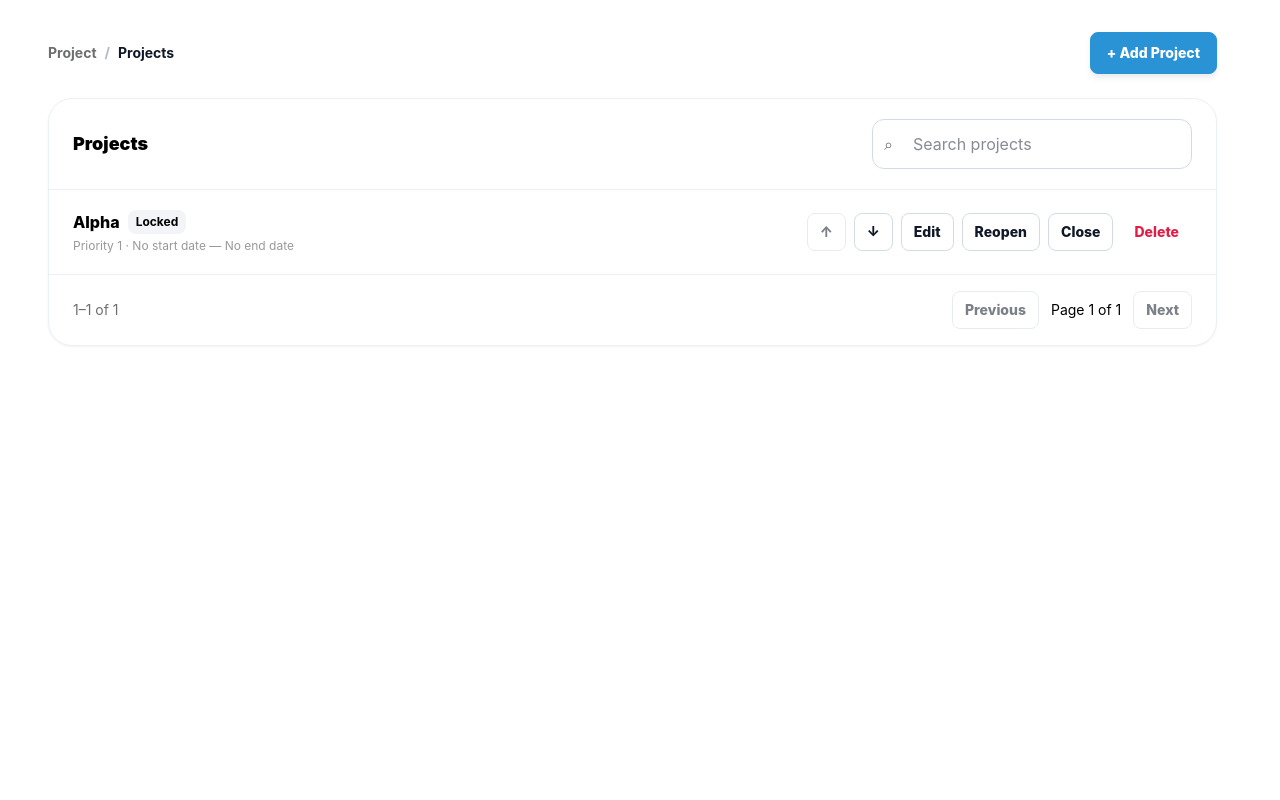
Projects page › labels Bulk Reopen open projects as timeline impacts only_US62_D08_AC25
This screenshot has width=1280, height=800.
Expected: the heading "Alpha" is shown, [73, 210, 120, 234]
Step 1. Click the button "Reopen" → (1001, 232), box [962, 213, 1040, 251]
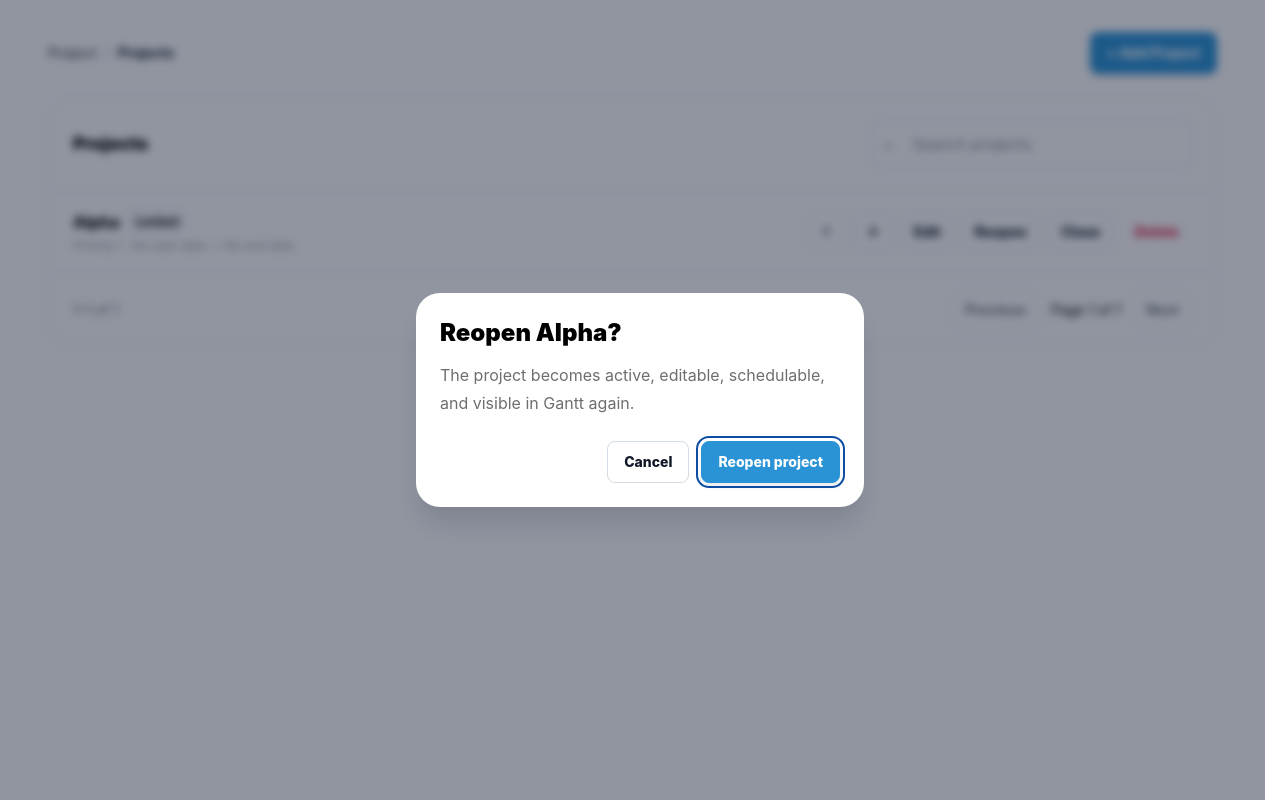
Step 2. Click the button "Reopen project" → (771, 462), box [701, 441, 840, 483]
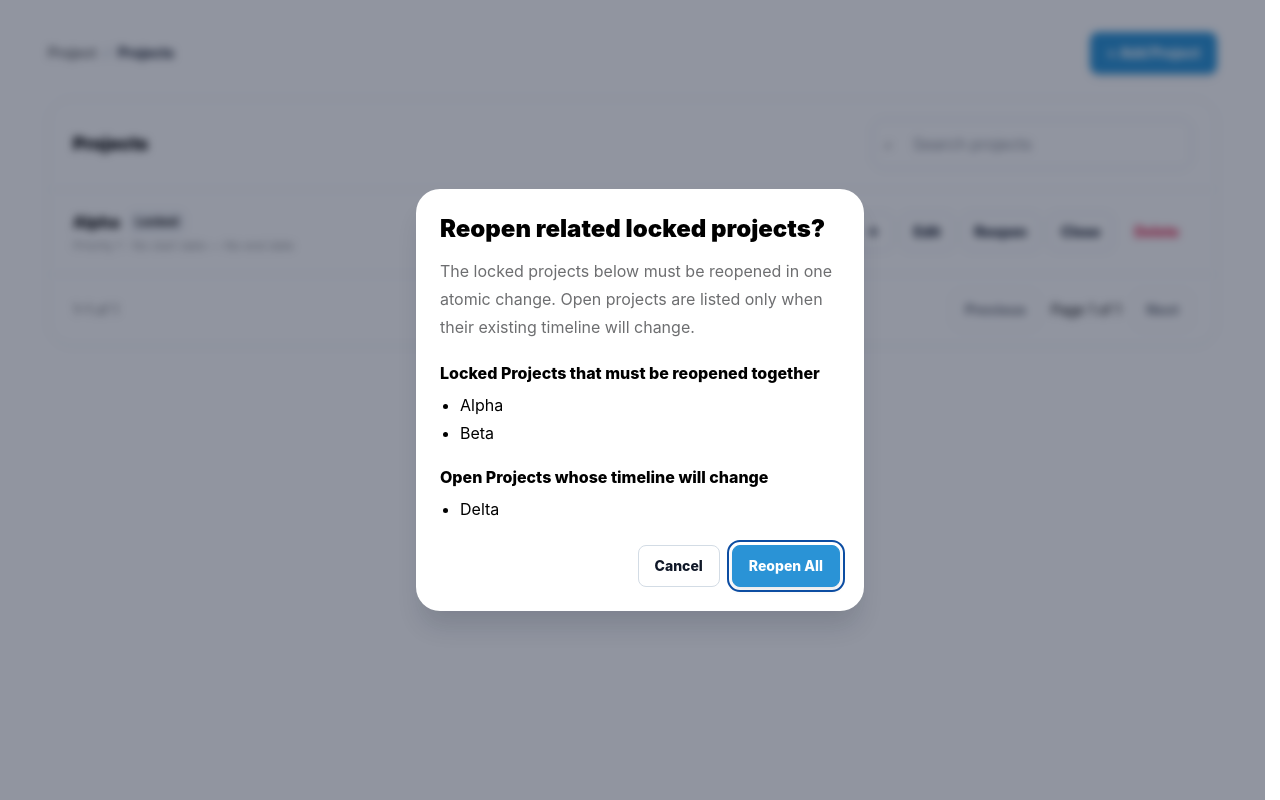
Expected: the heading "Open Projects whose timeline will change" is shown, [440, 467, 768, 487]
Expected: the dialog "Reopen related locked projects?" shows "Open projects are listed only when their existing timeline will change.", [440, 261, 832, 337]
Expected: the list item "Delta" is shown, [460, 499, 499, 519]
